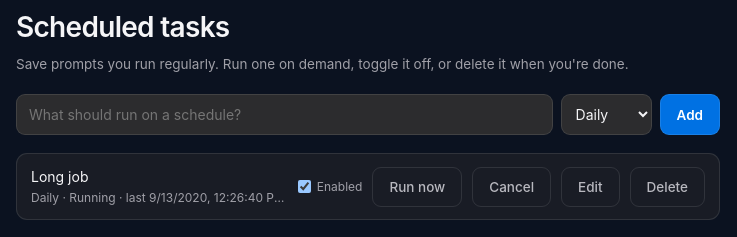
ScheduledView › shows a Cancel button on a running row and cancels via cancel_scheduled
Expected: the text "Long job" is shown, [31,168,88,185]
Click the button with aria-label "cancel run". click: point(512, 187)
box: [472,167,551,207]
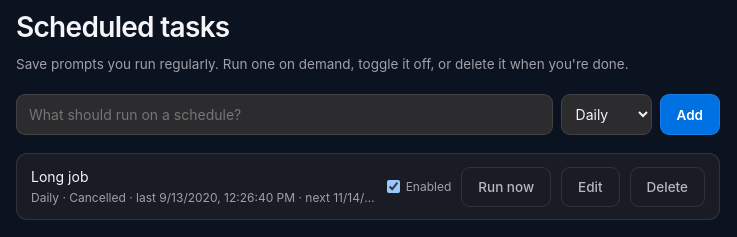
Result: the text "Cancelled" is shown at [69,190,126,205]
